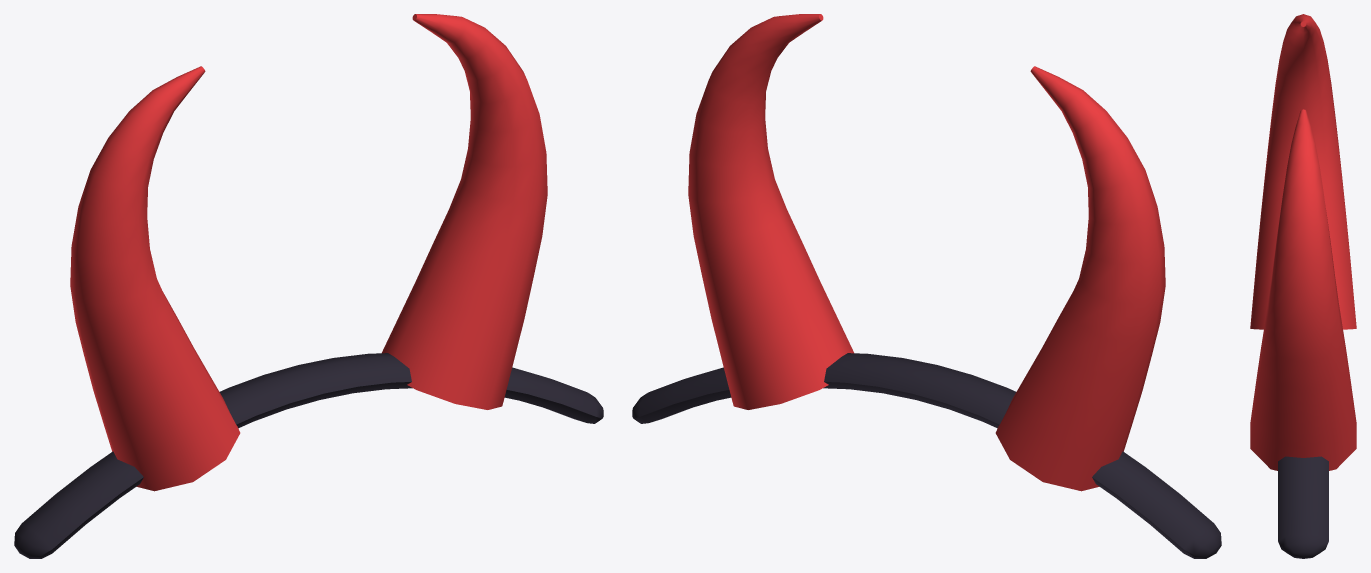
Rendered from devil_horns.glb.
3 views of the same model, side by side, from view 1: azimuth 30°, elevation 25°; view 2: azimuth 150°, elevation 25°; view 3: azimuth 270°, elevation 25° (orthographic). The views are drawn at different scales.
Parts seen in each view (by area): view 1: devil_horns; view 2: devil_horns; view 3: devil_horns.
Boxes of the visible parts, x1,y1,x2,y2 form: devil_horns: (14,14,603,558); devil_horns: (632,14,1221,558); devil_horns: (1250,14,1356,558).
Size of the model in its own units: 0.5764 by 0.4245 by 0.1084.
